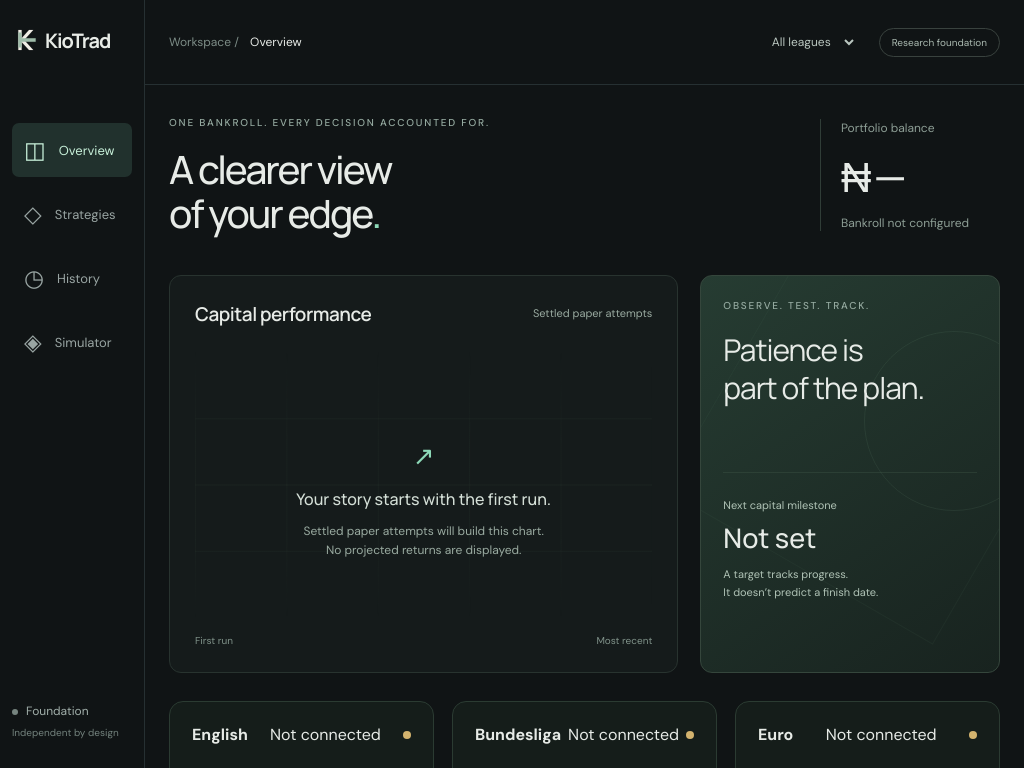
Test: shows unavailable feeds and no invented balance, supports league filtering and strategy inspection
The image size is (1024, 768).
Expected: the text "Bankroll not configured" is shown, [841, 215, 969, 231]
Expected: the text "Not connected" is shown 3 times, [270, 724, 381, 745]; [568, 724, 679, 745]; [826, 724, 937, 745]
Select "Euro" in the dropdown named "League": point(808, 42) [760, 25, 857, 59]
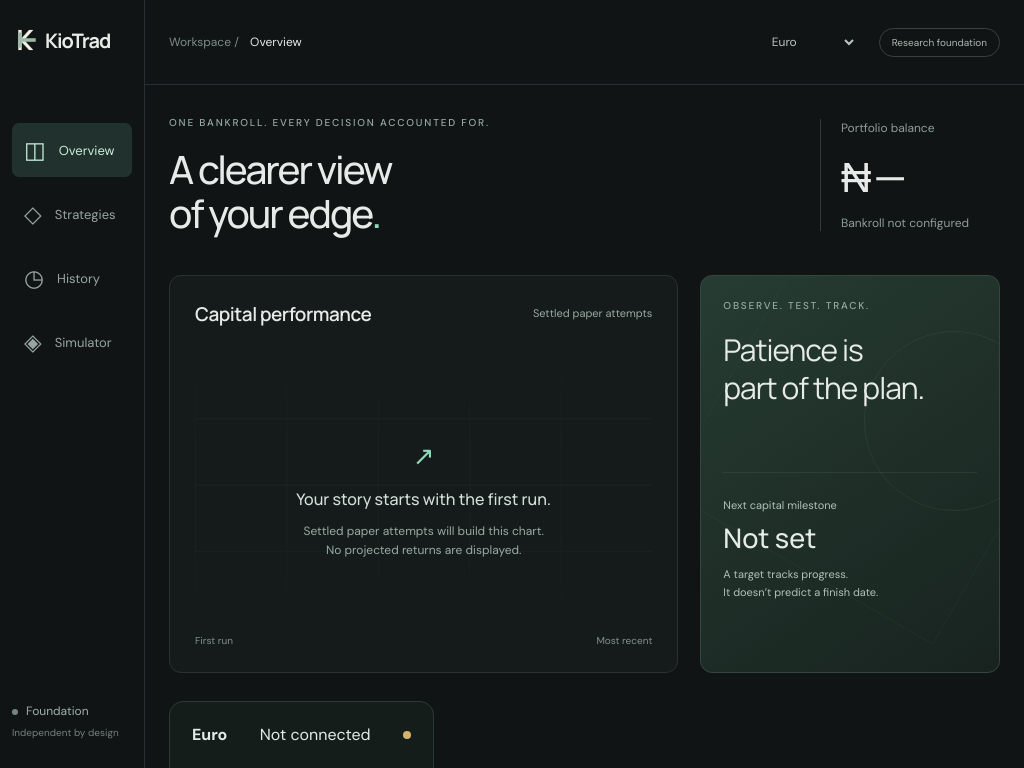
Expected: the text "Euro" is shown, [192, 724, 227, 745]
Result: the text "English" is gone
Click the button "◇ Strategies": point(72, 214) [12, 187, 132, 241]
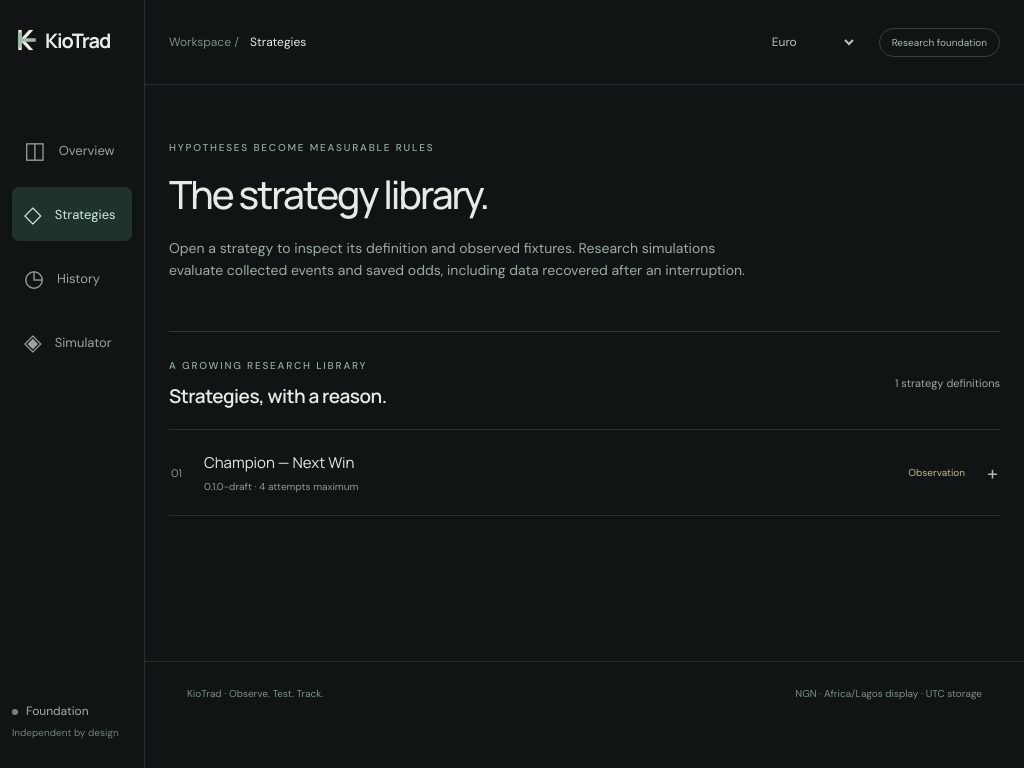
Result: the heading "The strategy library." is shown at [169, 168, 488, 221]
Click the text "Champion — Next Win": point(281, 473) [204, 452, 358, 493]
(page scrolled)
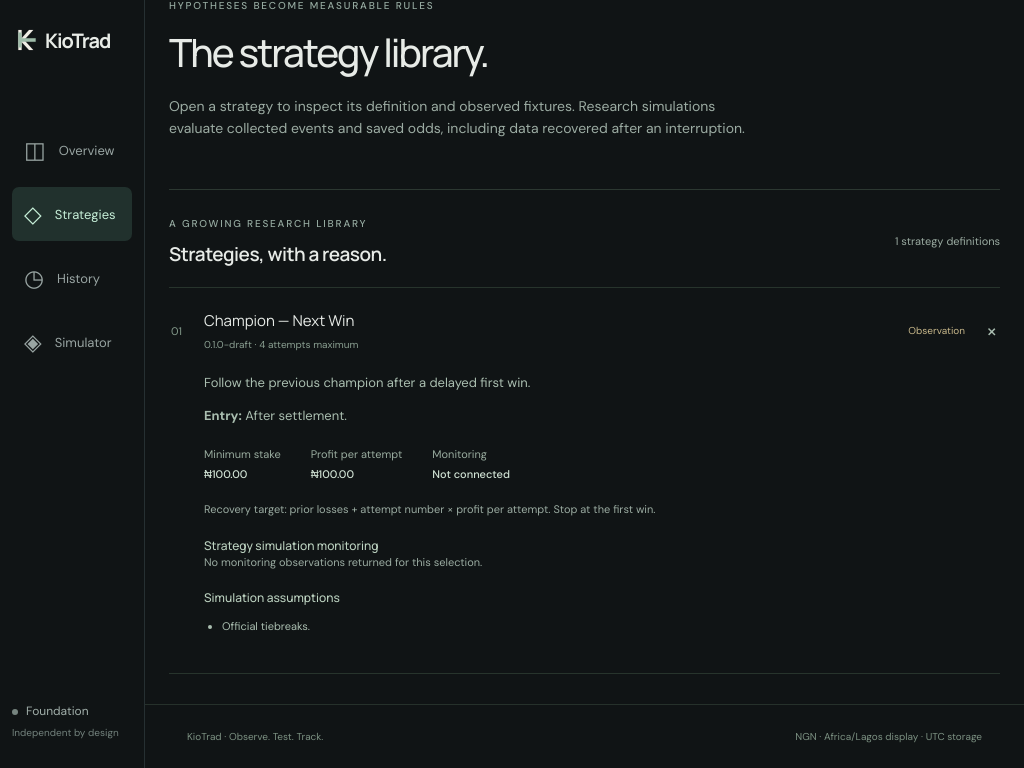
Result: the list item "Official tiebreaks." is shown at [222, 619, 310, 633]
